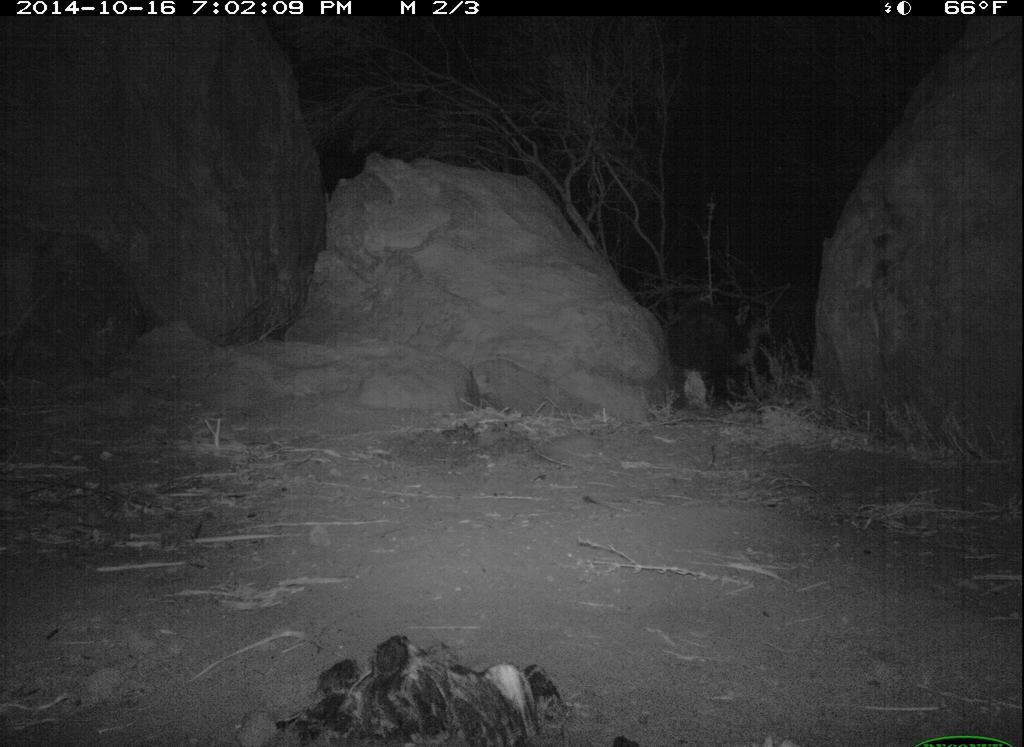skunk: (655, 296, 776, 415)
